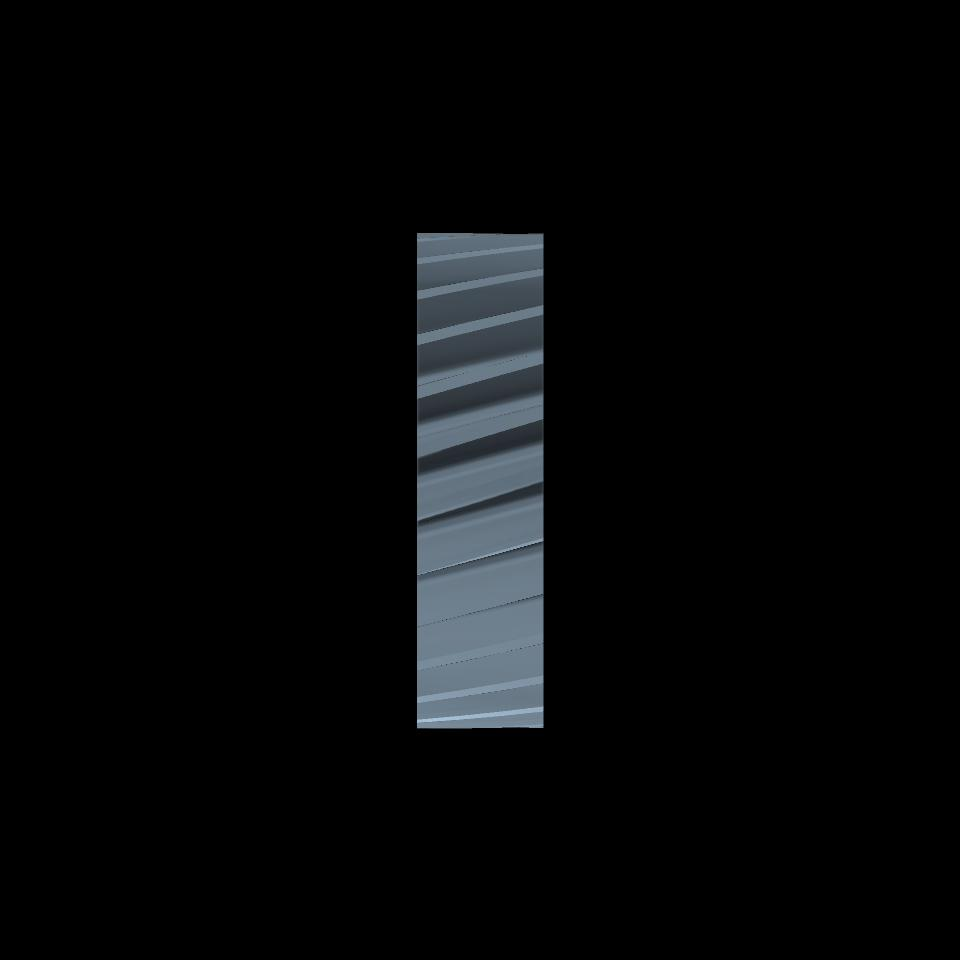Helical: (416, 233, 544, 727)
